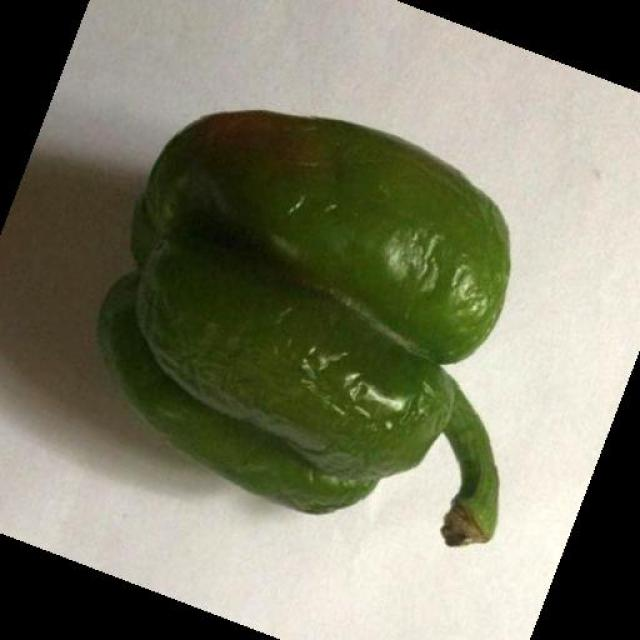Stale_Capsicum: (119, 84, 530, 525)
